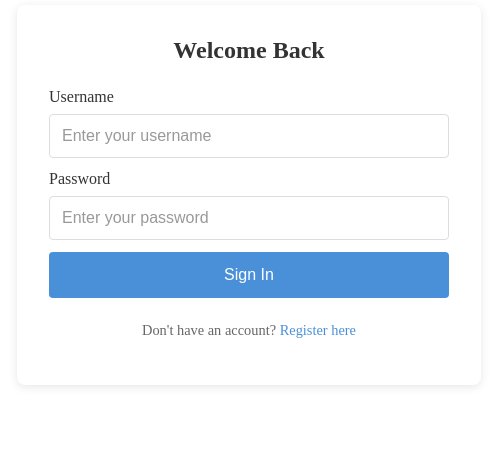
Test: LoginForm › Error Handling › displays error message for invalid credentials (401)
Type "wronguser" into the field labelled "Username" at point(249, 136), box [49, 114, 449, 158]
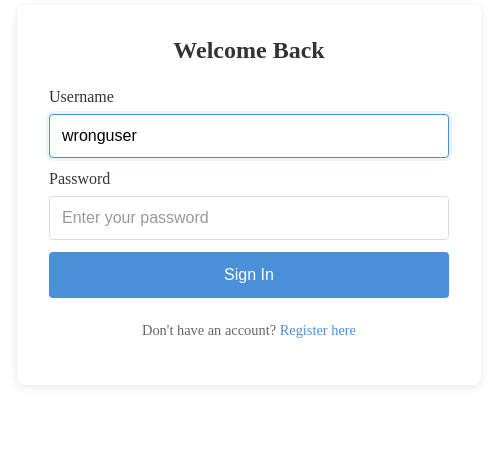
Type "wrongpass" into the password field labelled "Password" at point(249, 218), box [49, 196, 449, 240]
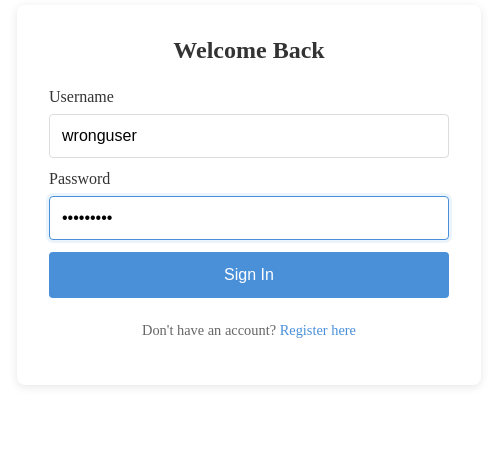
Click the button "Sign In" at point(249, 275), box [49, 252, 449, 298]
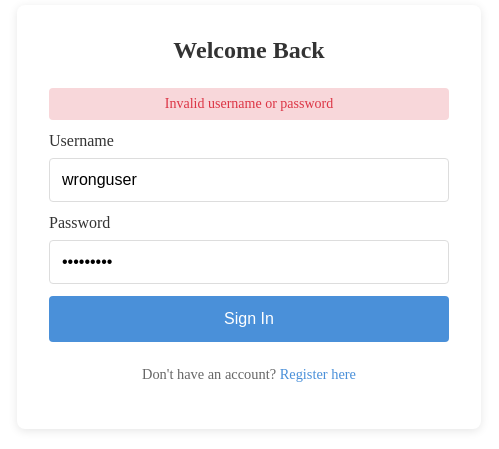
expect the text "Invalid username or password" is shown: met, box [49, 88, 449, 120]
